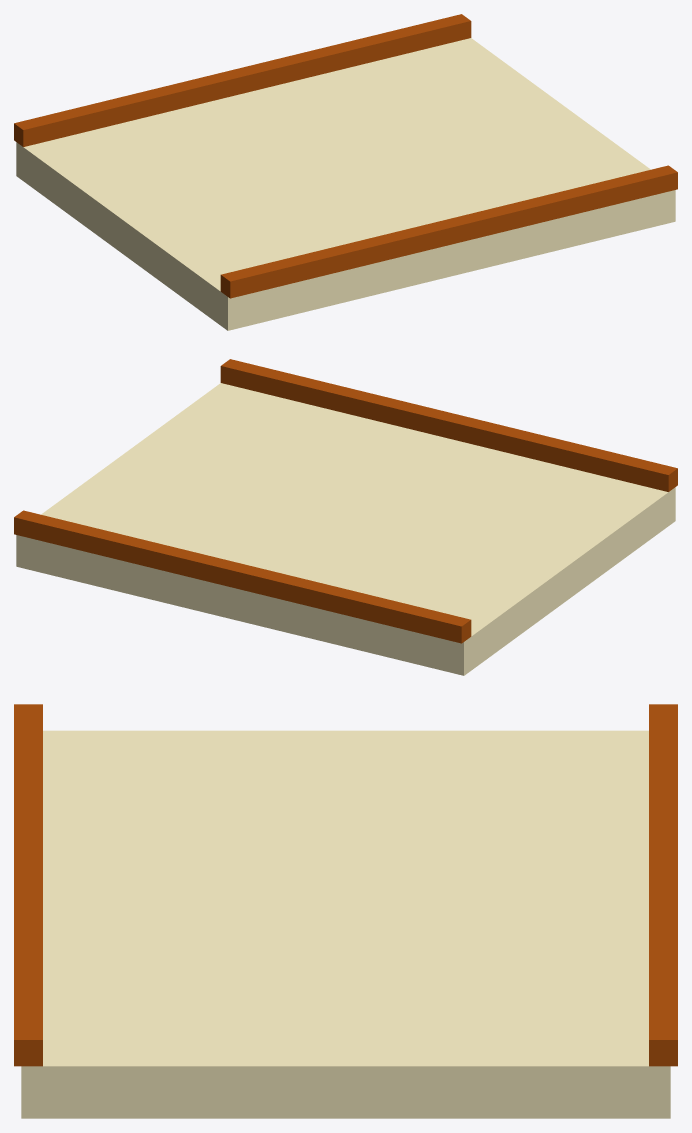
File: parametric-source.glb
The picture shows the model from 3 angles, top to bottom: view 1: azimuth 30°, elevation 25°; view 2: azimuth 150°, elevation 25°; view 3: azimuth 270°, elevation 25°; orthographic projection. The views are drawn at different scales.
Visible parts, largest first — view 1: openclinxr.equipment.abdominal_exam_zone_equipment.pad, openclinxr.equipment.abdominal_exam_zone_equipment.rail_a, openclinxr.equipment.abdominal_exam_zone_equipment.rail_b; view 2: openclinxr.equipment.abdominal_exam_zone_equipment.pad, openclinxr.equipment.abdominal_exam_zone_equipment.rail_a, openclinxr.equipment.abdominal_exam_zone_equipment.rail_b; view 3: openclinxr.equipment.abdominal_exam_zone_equipment.pad, openclinxr.equipment.abdominal_exam_zone_equipment.rail_a, openclinxr.equipment.abdominal_exam_zone_equipment.rail_b.
Boxes of the visible parts, x1,y1,x2,y2 form: openclinxr.equipment.abdominal_exam_zone_equipment.pad: (16,38,675,330); openclinxr.equipment.abdominal_exam_zone_equipment.rail_a: (220,165,677,298); openclinxr.equipment.abdominal_exam_zone_equipment.rail_b: (14,14,471,146); openclinxr.equipment.abdominal_exam_zone_equipment.pad: (16,383,675,675); openclinxr.equipment.abdominal_exam_zone_equipment.rail_a: (220,359,677,491); openclinxr.equipment.abdominal_exam_zone_equipment.rail_b: (14,510,471,643); openclinxr.equipment.abdominal_exam_zone_equipment.pad: (21,730,670,1118); openclinxr.equipment.abdominal_exam_zone_equipment.rail_a: (14,704,42,1066); openclinxr.equipment.abdominal_exam_zone_equipment.rail_b: (649,704,677,1066).
Size of the model in its own units: 0.55 by 0.06 by 0.46.
